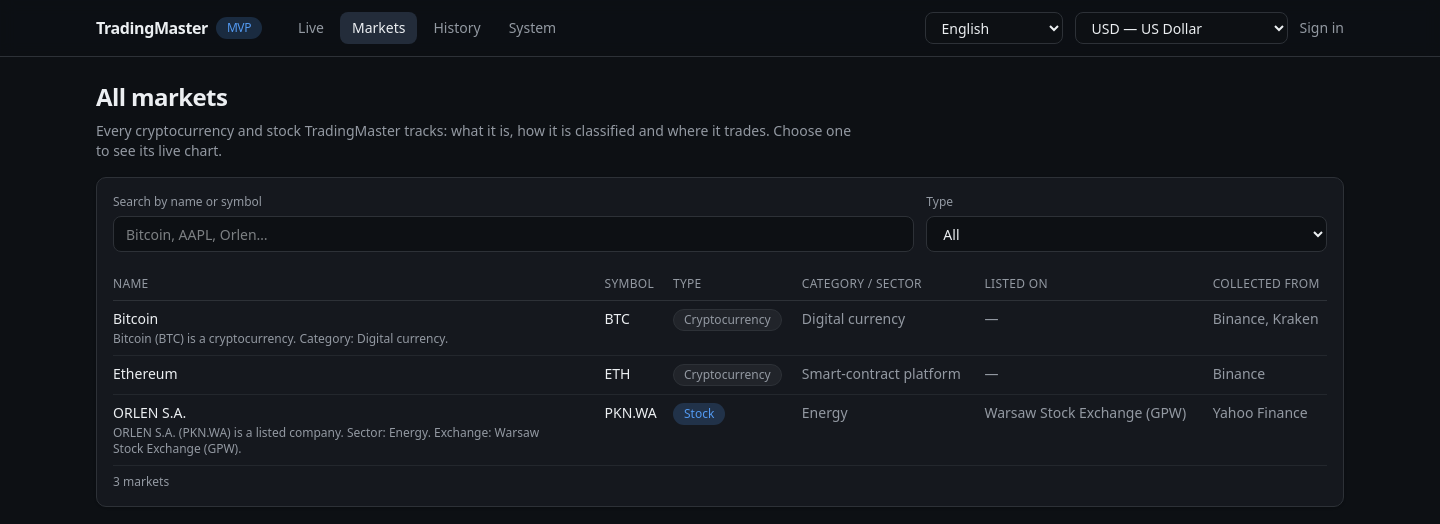
Test: languages › switch language without leaving the page, and remember it
The image size is (1440, 524).
Expected: the heading "All markets" is shown, [96,80,227,113]
Select "Deutsch" in the dropdown named "Language" at (994, 28), box [924,12,1062,44]
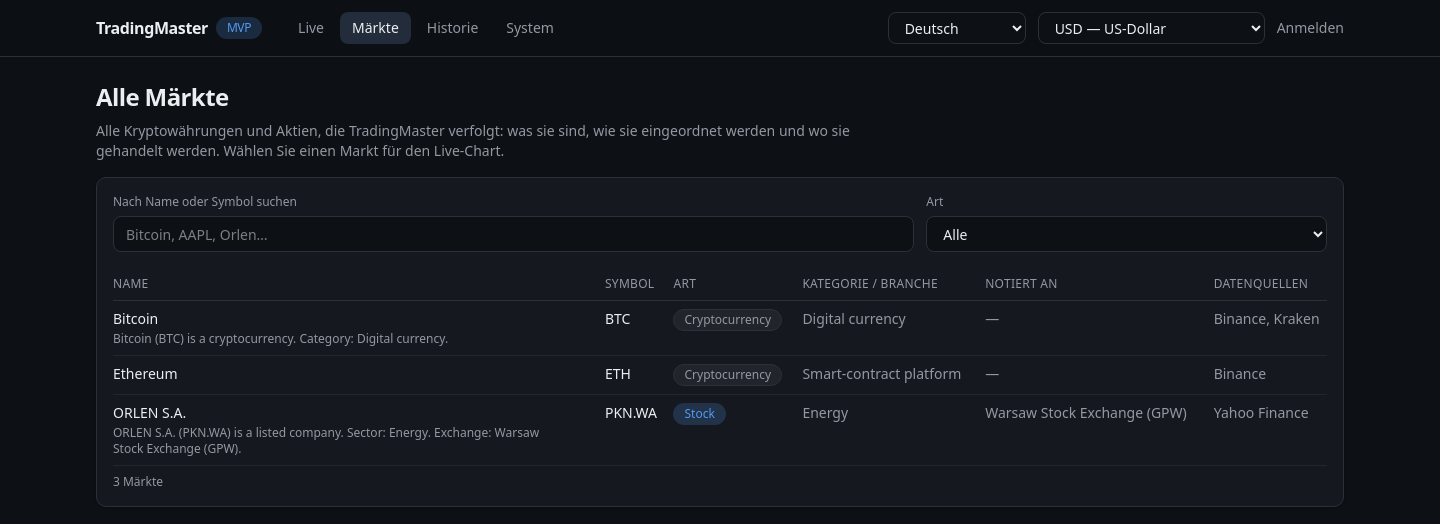
Expected: the heading "Alle Märkte" is shown, [96,80,228,113]
